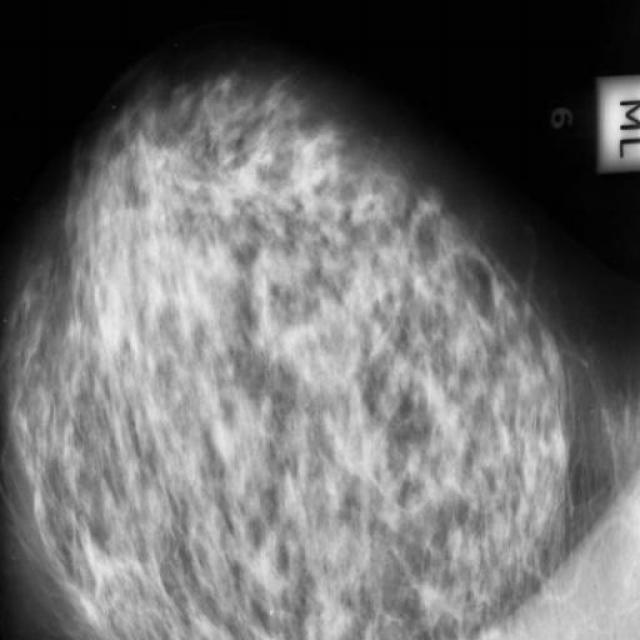cancer: (294, 548, 344, 622)
